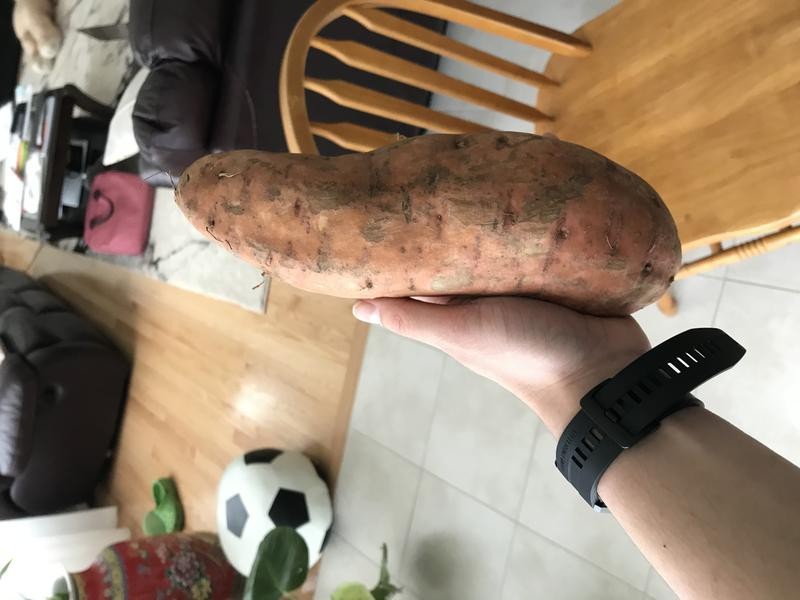sweet_potato: (171, 121, 687, 333)
